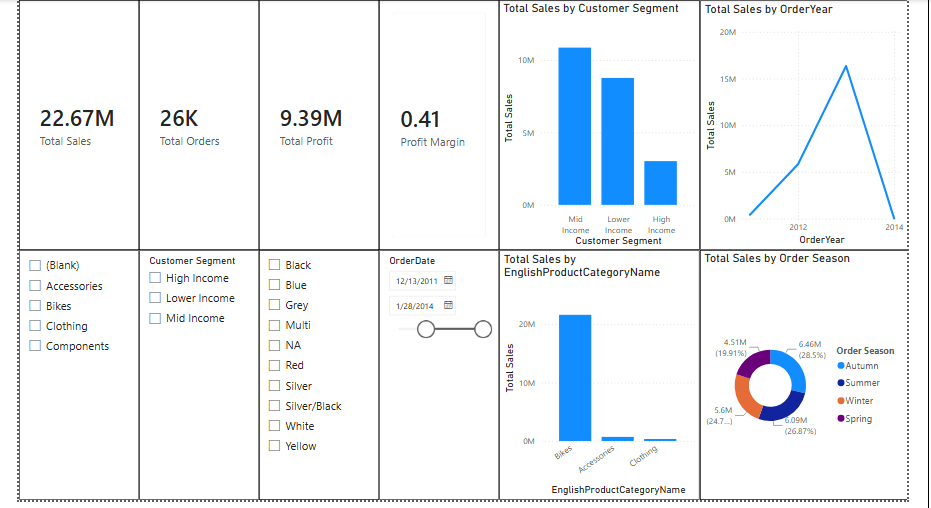

What the dashboard file says about the page in this screenshot:
{"tool":"powerbi","page":{"name":"Page 1","canvas":[1280,720],"ordinal":0},"visuals":[{"type":"cardVisual","fields":{"Data":["PythonSalesReportingTable.Total Sales"]},"box":[0,0,172.8,360],"z":0},{"type":"cardVisual","fields":{"Data":["PythonSalesReportingTable.Total Profit"]},"box":[345.6,0,172.8,360],"z":1000},{"type":"cardVisual","fields":{"Data":["PythonSalesReportingTable.Total Orders"]},"box":[172.8,0,172.8,360],"z":2000},{"type":"clusteredColumnChart","fields":{"Category":["DimProductCategory.EnglishProductCategoryName"],"Y":["PythonSalesReportingTable.Total Sales"]},"box":[691.2,360,289.4,360],"z":3000},{"type":"lineChart","fields":{"Category":["PythonSalesReportingTable.OrderYear"],"Y":["PythonSalesReportingTable.Total Sales"]},"box":[980.6,0,299.5,360],"z":4000},{"type":"donutChart","fields":{"Category":["PythonSalesReportingTable.Order Season"],"Y":["PythonSalesReportingTable.Total Sales"]},"box":[980.6,360,299.5,360],"z":5000},{"type":"slicer","fields":{"Values":["PythonSalesReportingTable.OrderDate"]},"box":[518.4,360,172.8,360],"z":6000},{"type":"slicer","fields":{"Values":["PythonSalesReportingTable.Customer Segment"]},"box":[172.8,360,172.8,360],"z":7000},{"type":"slicer","fields":{"Values":["DimProductCategory.EnglishProductCategoryName"]},"box":[0,360,172.8,360],"z":8000},{"type":"columnChart","fields":{"Category":["PythonSalesReportingTable.Customer Segment"],"Y":["PythonSalesReportingTable.Total Sales"]},"box":[691.2,0,289.4,360],"z":9000},{"type":"cardVisual","fields":{"Data":["PythonSalesReportingTable.Profit Margin"]},"box":[518.4,0,172.8,360],"z":10000},{"type":"slicer","fields":{"Values":["DimProduct.Color"]},"box":[345.6,360,172.8,360],"z":11000}]}

Visuals, with their boxes in screenshot pixels (x1, y1, x2, y2):
cardVisual - PythonSalesReportingTable.Total Sales: x1=15, y1=0, x2=135, y2=249
cardVisual - PythonSalesReportingTable.Total Profit: x1=256, y1=0, x2=376, y2=249
cardVisual - PythonSalesReportingTable.Total Orders: x1=135, y1=0, x2=256, y2=249
clusteredColumnChart - DimProductCategory.EnglishProductCategoryName x PythonSalesReportingTable.Total Sales: x1=497, y1=249, x2=698, y2=500
lineChart - PythonSalesReportingTable.OrderYear x PythonSalesReportingTable.Total Sales: x1=698, y1=0, x2=907, y2=249
donutChart - PythonSalesReportingTable.Order Season x PythonSalesReportingTable.Total Sales: x1=698, y1=249, x2=907, y2=500
slicer - PythonSalesReportingTable.OrderDate: x1=376, y1=249, x2=497, y2=500
slicer - PythonSalesReportingTable.Customer Segment: x1=135, y1=249, x2=256, y2=500
slicer - DimProductCategory.EnglishProductCategoryName: x1=15, y1=249, x2=135, y2=500
columnChart - PythonSalesReportingTable.Customer Segment x PythonSalesReportingTable.Total Sales: x1=497, y1=0, x2=698, y2=249
cardVisual - PythonSalesReportingTable.Profit Margin: x1=376, y1=0, x2=497, y2=249
slicer - DimProduct.Color: x1=256, y1=249, x2=376, y2=500
